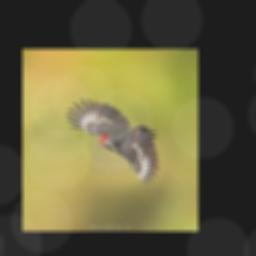Woodpecker: (65, 98, 160, 185)
